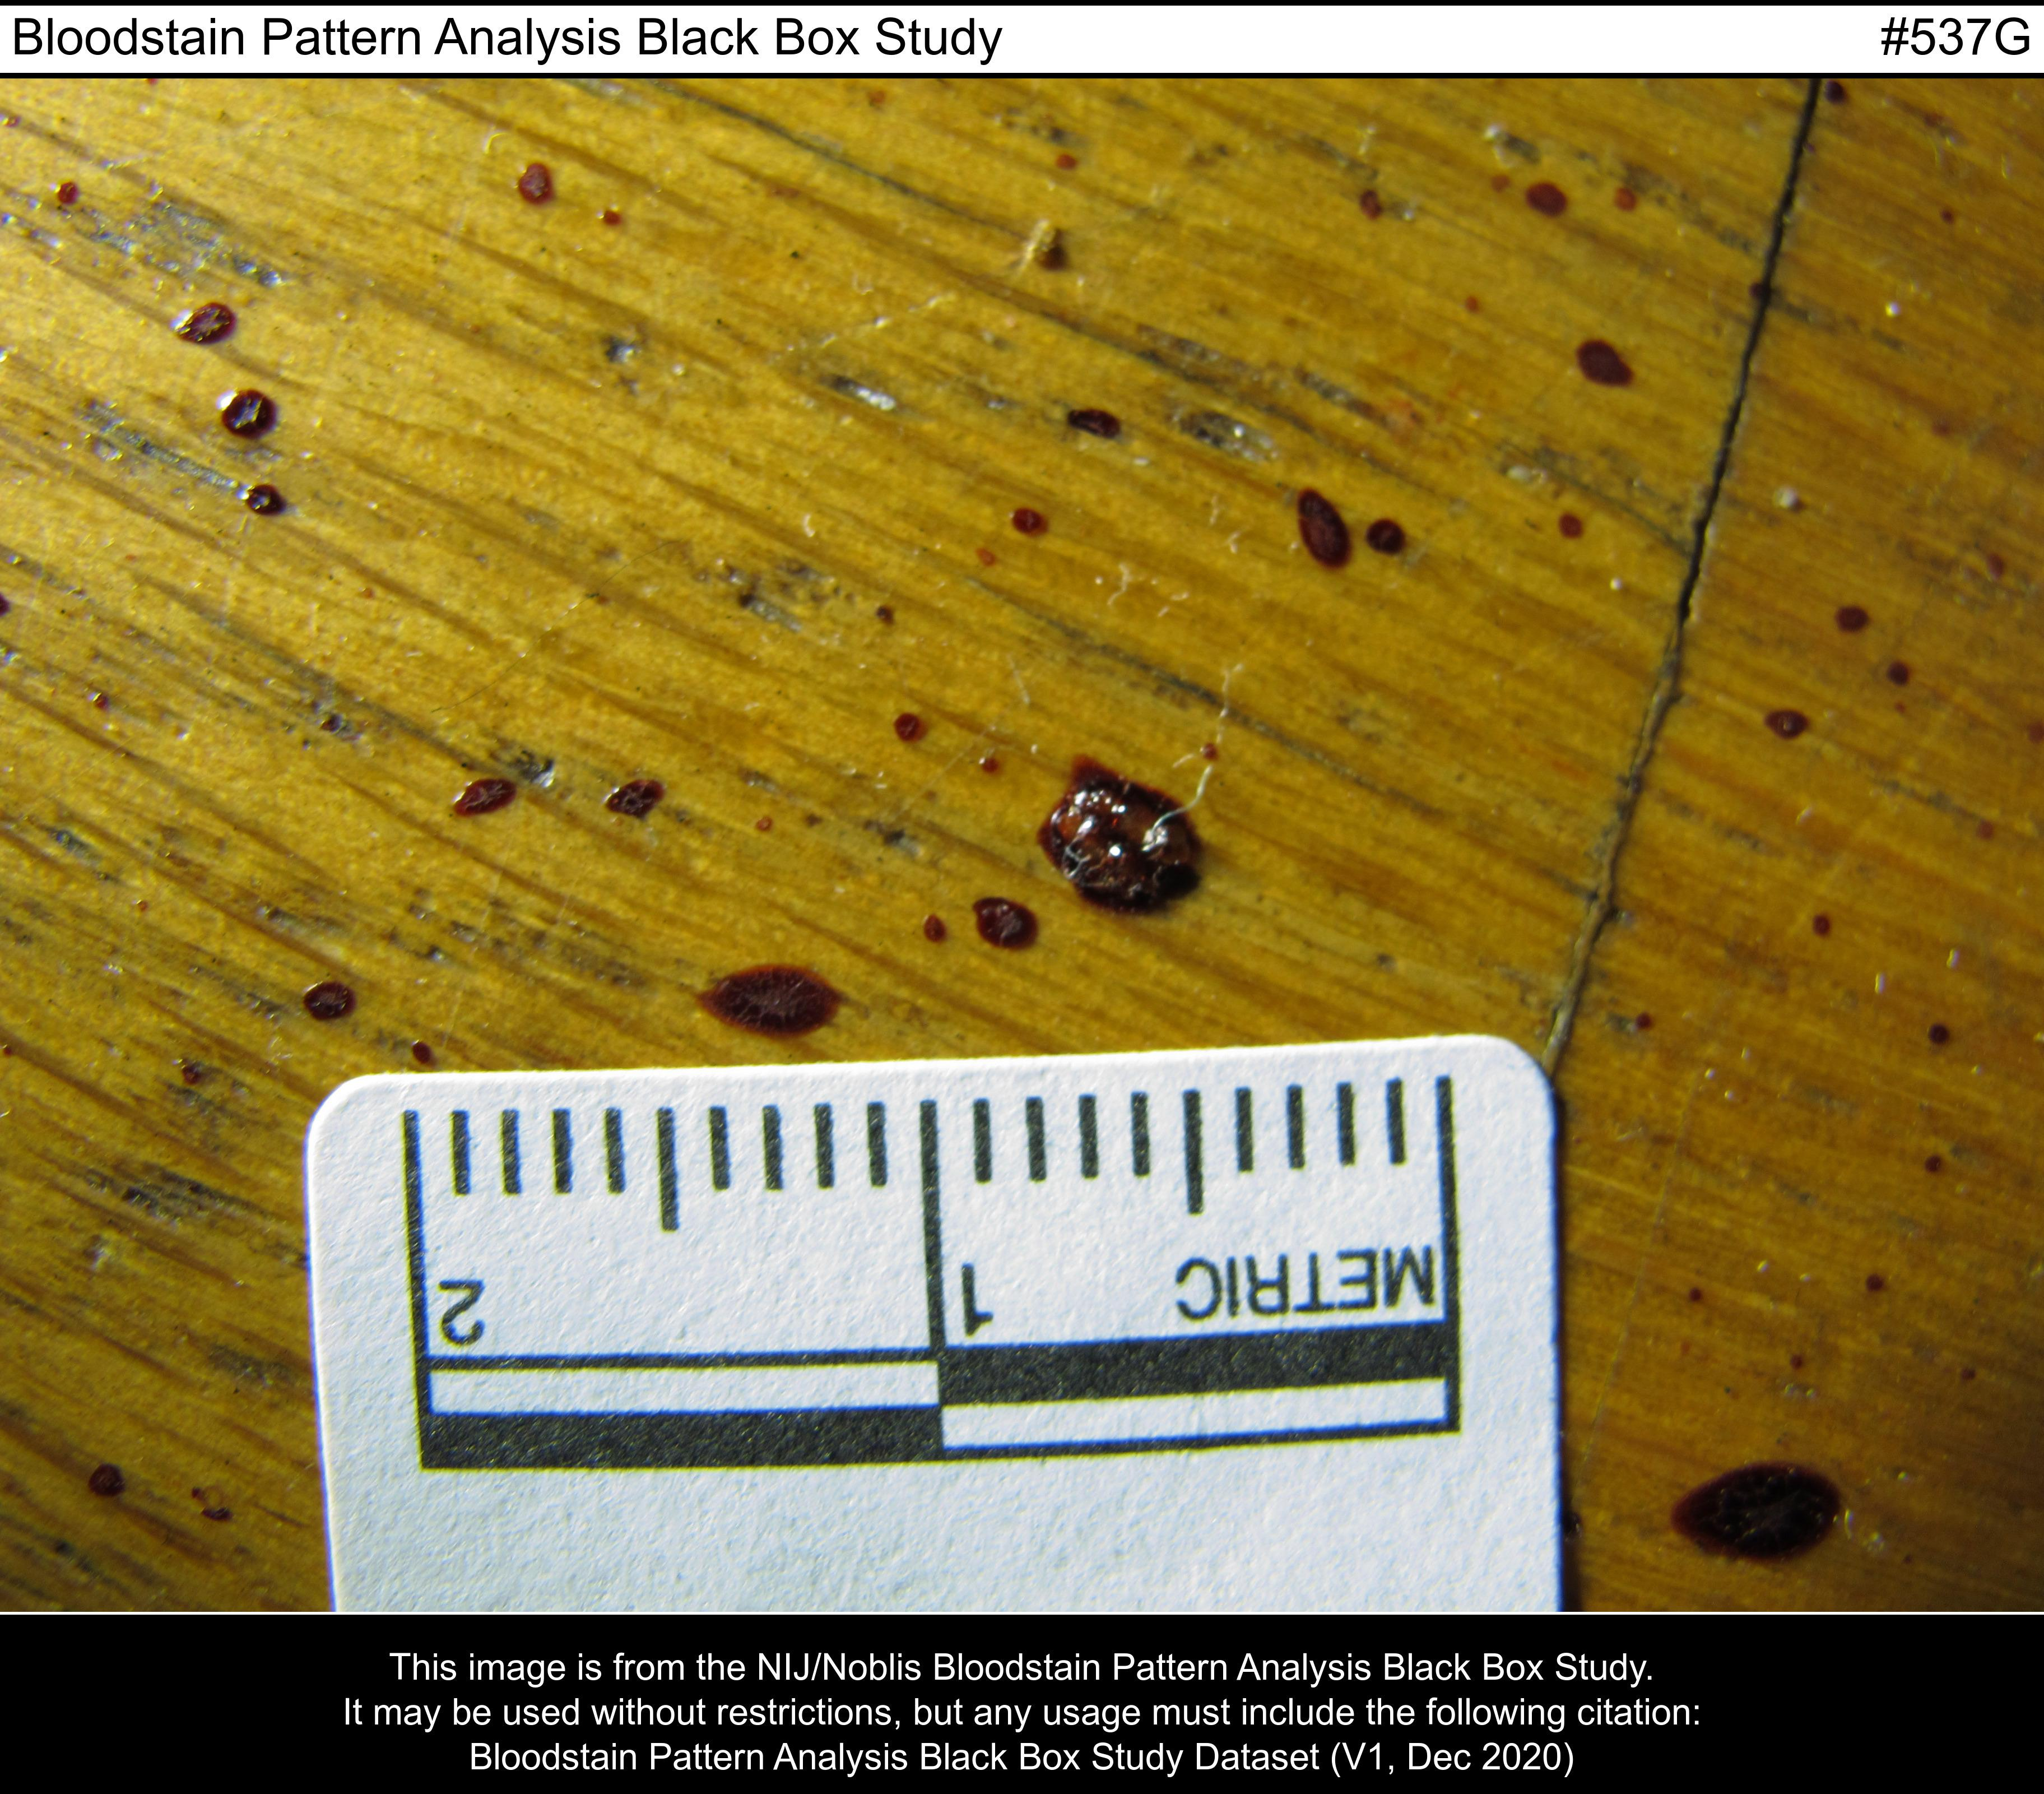Passive: (61, 106, 1968, 1043)
